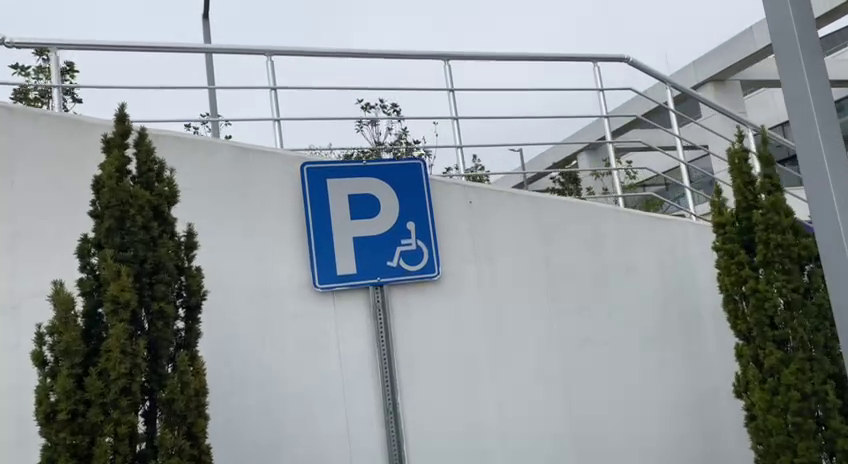parking: (299, 154, 440, 293)
